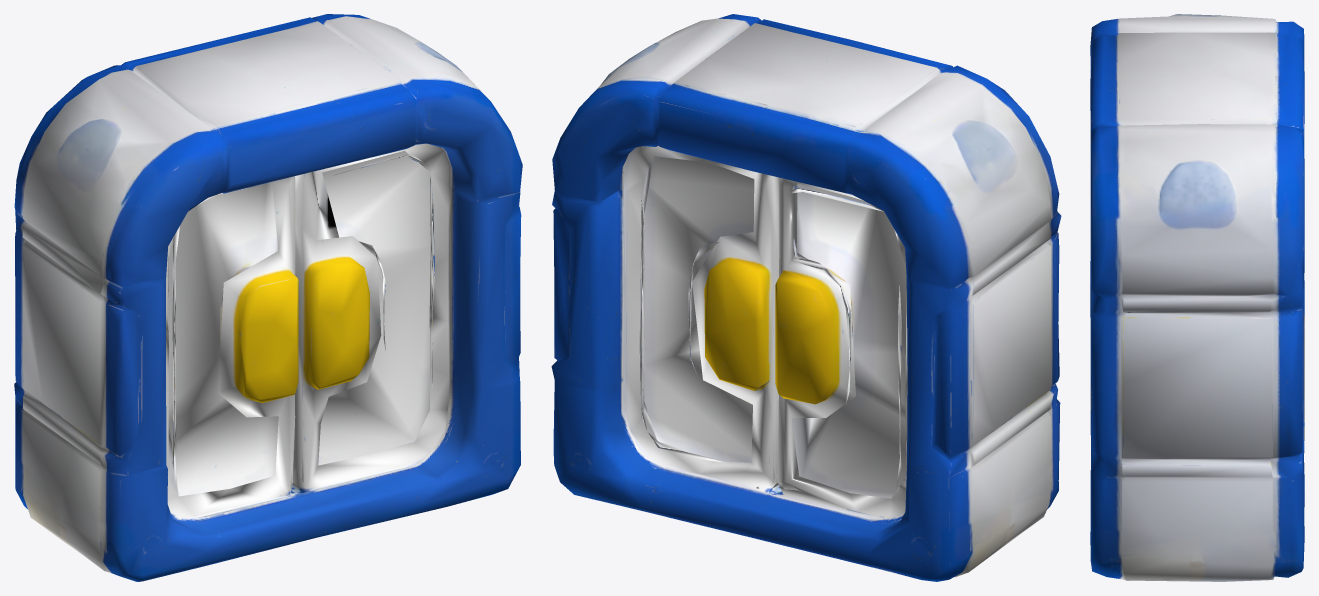
File: Meshy_AI_Blue_Frame_with_Yello_0401042952_texture.fbx
3 views of the same model, side by side, from view 1: azimuth 30°, elevation 25°; view 2: azimuth 150°, elevation 25°; view 3: azimuth 270°, elevation 25° (orthographic). The views are drawn at different scales.
Parts seen in each view (by area): view 1: Mesh1.0; view 2: Mesh1.0; view 3: Mesh1.0.
Part boxes in pixels (x1,y1,x2,y2): Mesh1.0: [14, 14, 522, 581]; Mesh1.0: [551, 14, 1061, 581]; Mesh1.0: [1090, 14, 1304, 581].
Bounding box in the file's own units: 191 × 191 × 88.8.
Materials: 1 (1 with a texture image).
